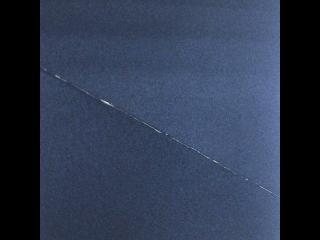crack: (38, 60, 280, 203)
